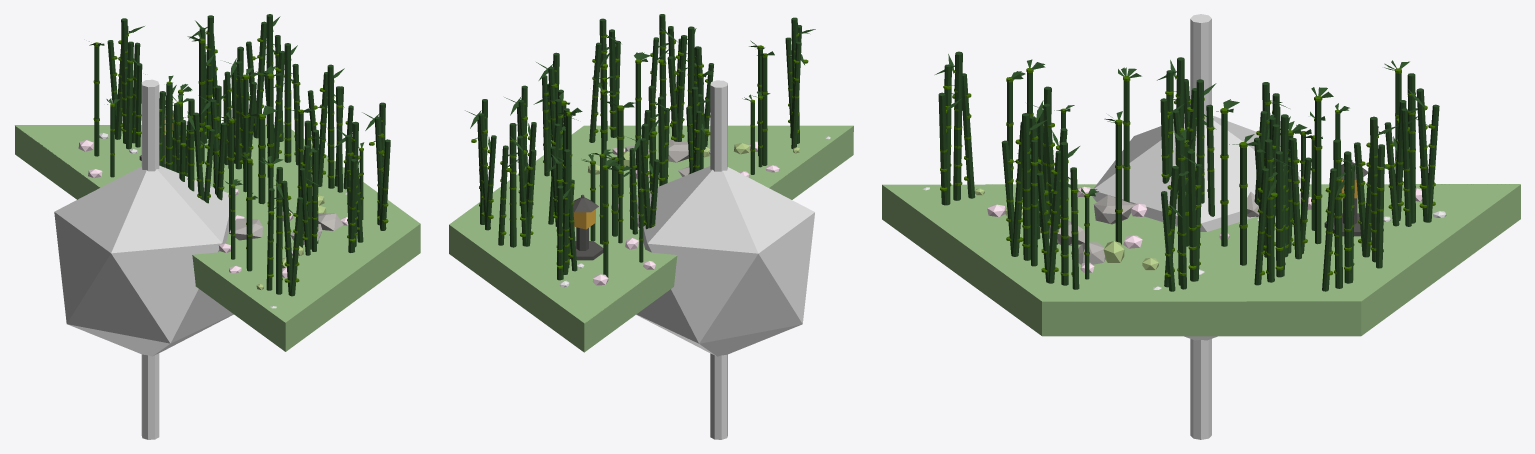
File: bamboo_half_sprint3.glb
3 views of the same model, side by side, from view 1: azimuth 30°, elevation 25°; view 2: azimuth 150°, elevation 25°; view 3: azimuth 270°, elevation 25° (orthographic). The views are drawn at different scales.
Visible parts, largest first — view 1: Cylinder.001, Low Poly Stone, Low Poly Bamboo Stalk.002, Low Poly Bamboo Stalk.053, Low Poly Bamboo Stalk.093, Low Poly Bamboo Stalk.099, Low Poly Bamboo Stalk.063, Low Poly Bamboo Stalk.100, Low Poly Bamboo Stalk.066, Low Poly Bamboo Stalk.069, Low Poly Bamboo Stalk.062, Low Poly Bamboo Stalk.094 (+34 smaller); view 2: Cylinder.001, Low Poly Stone, Low Poly Bamboo Stalk.002, Low Poly Bamboo Stalk.069, Low Poly Bamboo Stalk.063, Low Poly Bamboo Stalk.070, Low Poly Bamboo Stalk.096, Low Poly Bamboo Stalk.088, Low Poly Bamboo Stalk.098, BambooStalk_2_2, Low Poly Bamboo Stalk.076, BambooStalk_2_3.001 (+24 smaller); view 3: Cylinder.001, Low Poly Stone, Low Poly Bamboo Stalk.002, Low Poly Bamboo Stalk.099, Low Poly Bamboo Stalk.073, Low Poly Bamboo Stalk.077, Low Poly Bamboo Stalk.107, Low Poly Bamboo Stalk.053, Low Poly Bamboo Stalk.108, Low Poly Bamboo Stalk.063, Low Poly Bamboo Stalk.094, BambooStalk_1_2 (+33 smaller).
Part boxes in pixels (x1,y1,x2,y2): Cylinder.001: [14, 125, 420, 351]; Low Poly Stone: [54, 165, 233, 356]; Low Poly Bamboo Stalk.002: [141, 79, 159, 439]; Low Poly Bamboo Stalk.053: [284, 43, 291, 162]; Low Poly Bamboo Stalk.093: [327, 64, 334, 188]; Low Poly Bamboo Stalk.099: [276, 167, 282, 294]; Low Poly Bamboo Stalk.063: [121, 18, 127, 143]; Low Poly Bamboo Stalk.100: [281, 180, 292, 295]; Low Poly Bamboo Stalk.066: [273, 50, 284, 161]; Low Poly Bamboo Stalk.069: [206, 15, 213, 138]; Low Poly Bamboo Stalk.062: [126, 41, 133, 149]; Low Poly Bamboo Stalk.094: [318, 72, 327, 186]; Cylinder.001: [449, 125, 853, 352]; Low Poly Stone: [636, 166, 814, 356]; Low Poly Bamboo Stalk.002: [710, 80, 727, 439]; Low Poly Bamboo Stalk.069: [509, 123, 516, 247]; Low Poly Bamboo Stalk.063: [562, 149, 570, 274]; Low Poly Bamboo Stalk.070: [517, 135, 527, 246]; Low Poly Bamboo Stalk.096: [609, 29, 616, 137]; Low Poly Bamboo Stalk.088: [677, 35, 687, 141]; Low Poly Bamboo Stalk.098: [791, 41, 801, 148]; BambooStalk_2_2: [762, 57, 767, 165]; Low Poly Bamboo Stalk.076: [589, 42, 601, 142]; BambooStalk_2_3.001: [603, 169, 608, 277]; Cylinder.001: [882, 184, 1520, 336]; Low Poly Stone: [1092, 116, 1309, 340]; Low Poly Bamboo Stalk.002: [1190, 14, 1211, 439]; Low Poly Bamboo Stalk.099: [953, 51, 962, 200]; Low Poly Bamboo Stalk.073: [1022, 113, 1030, 260]; Low Poly Bamboo Stalk.077: [1060, 142, 1068, 285]; Low Poly Bamboo Stalk.107: [1333, 139, 1342, 288]; Low Poly Bamboo Stalk.053: [1265, 139, 1274, 282]; Low Poly Bamboo Stalk.108: [1344, 151, 1351, 283]; Low Poly Bamboo Stalk.063: [1407, 73, 1415, 223]; Low Poly Bamboo Stalk.094: [1187, 150, 1196, 281]; BambooStalk_1_2: [1315, 101, 1321, 244].
Size of the model in its own units: 3.06 by 3.6 by 5.
